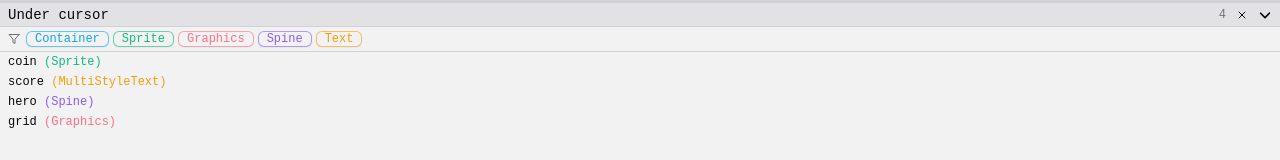
Test case: PickedList › the filters in its head › says why the list is empty rather than emptying the window
Click the button "Container".
click(67, 39)  # box [26, 31, 109, 47]
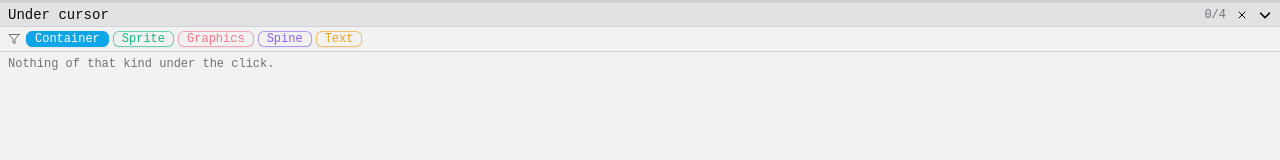
Expected: the text "Nothing of that kind" is shown, [8, 57, 274, 71]
